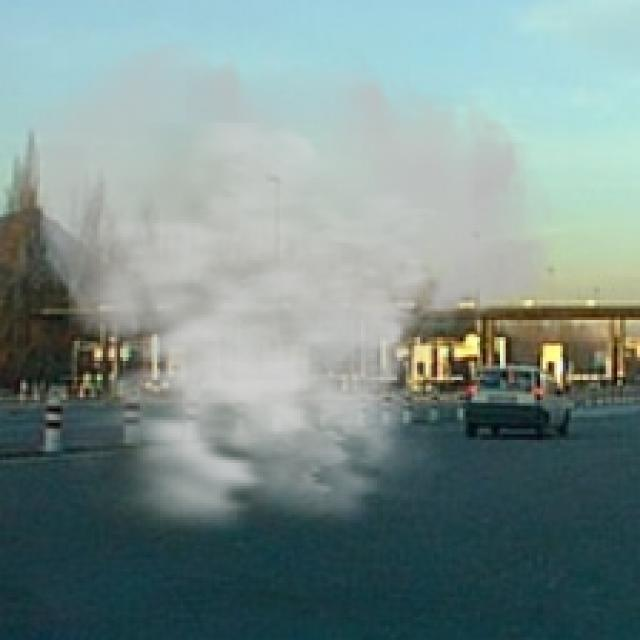smoke: (14, 37, 560, 557)
